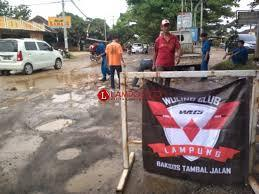Pothole: (45, 141, 132, 194), (0, 122, 50, 166), (42, 80, 97, 110), (27, 109, 78, 139), (54, 138, 85, 166)
